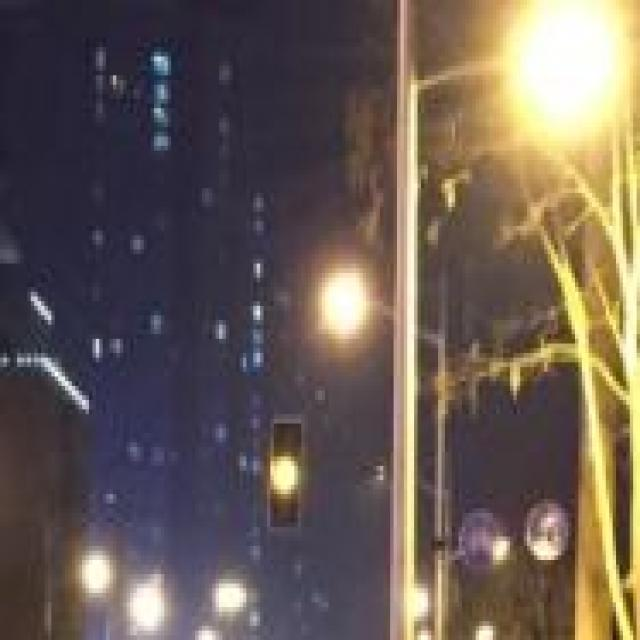yellow_light: (268, 415, 306, 530)
